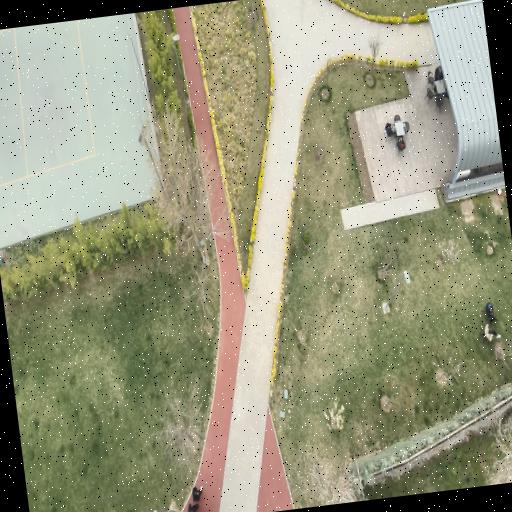person: (484, 324, 500, 341), (484, 303, 497, 323), (434, 65, 443, 93), (191, 486, 201, 501), (397, 137, 406, 151), (385, 123, 393, 137), (187, 504, 197, 511)
